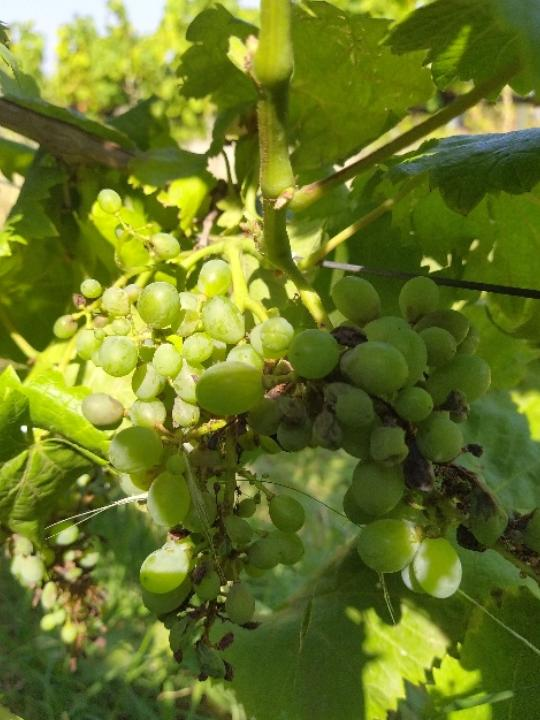grape: (54, 190, 540, 691)
